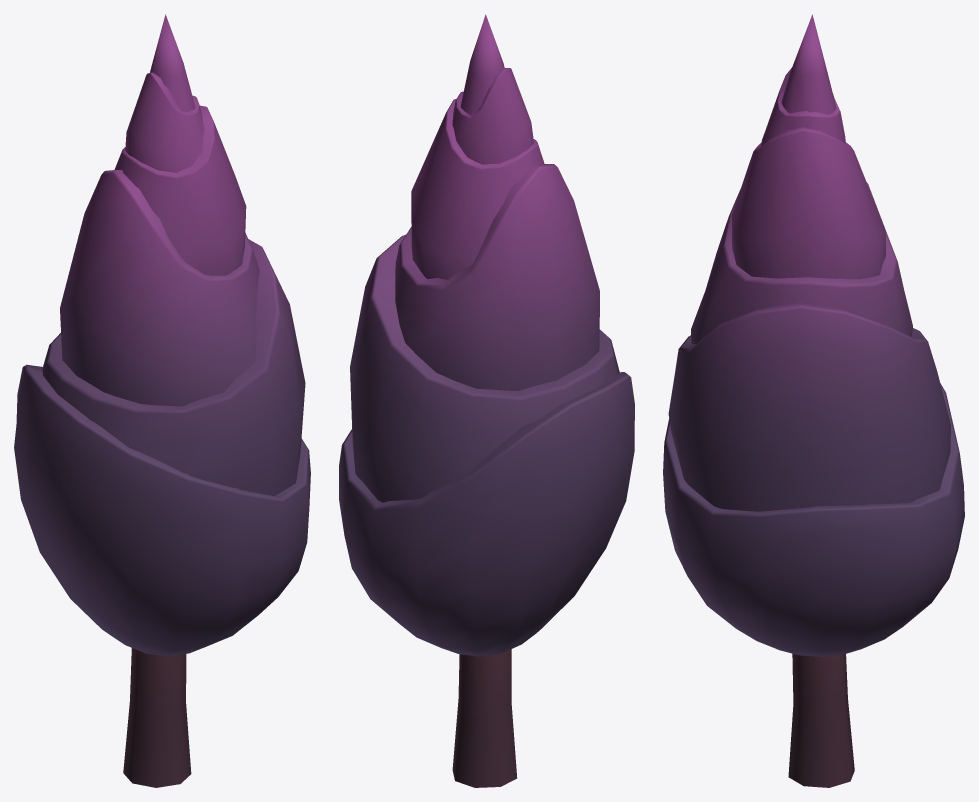
Rendered from tree_pack_04.glb.
The picture shows the model from 3 angles, left to right: view 1: azimuth 30°, elevation 25°; view 2: azimuth 150°, elevation 25°; view 3: azimuth 270°, elevation 25°; orthographic projection.
Parts seen in each view (by area): view 1: Tree.004; view 2: Tree.004; view 3: Tree.004.
Boxes of the visible parts, x1,y1,x2,y2 form: Tree.004: (14,14,310,787); Tree.004: (339,14,634,787); Tree.004: (663,14,964,787).
Size of the model in its own units: 2.01 by 5.64 by 2.03.
Materials: 1 (1 with a texture image).
